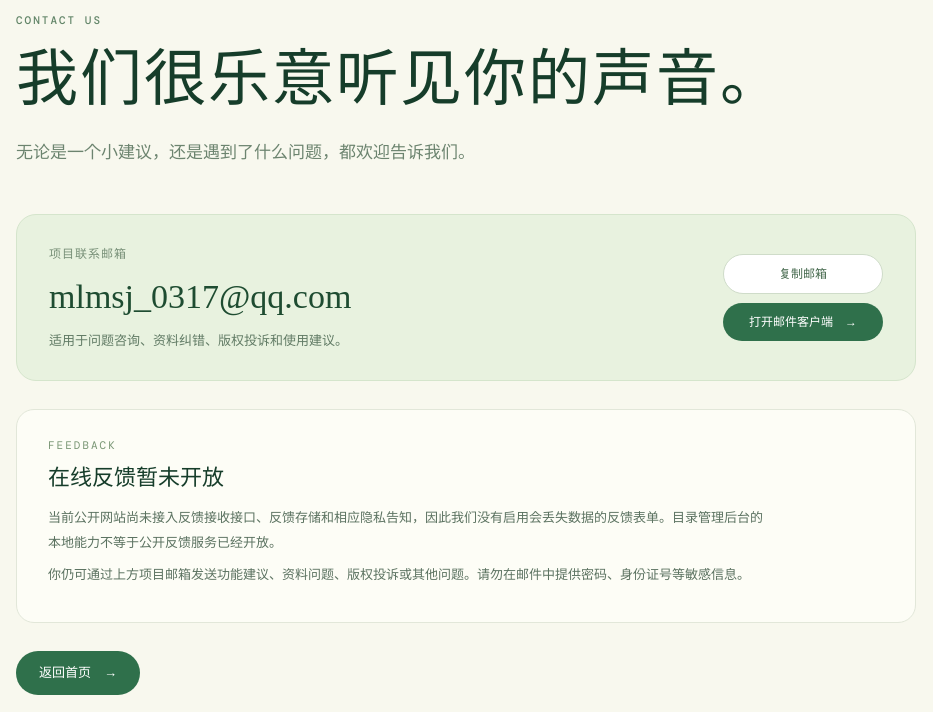
R15-3B capability copy › announces project email copy success and failure without losing the manual fallback
Click the button named "复制项目联系邮箱". click: (803, 274)
box: [723,254,883,294]
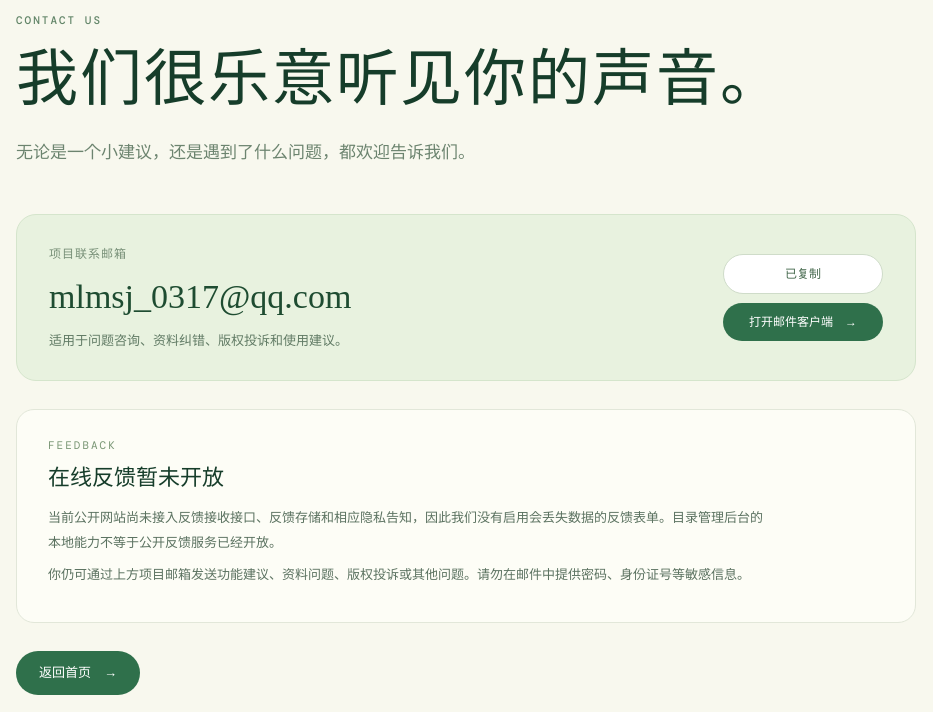
Check: the button named "复制项目联系邮箱" reads "已复制"
Click the button named "复制项目联系邮箱". click: (803, 274)
box: [723,254,883,294]
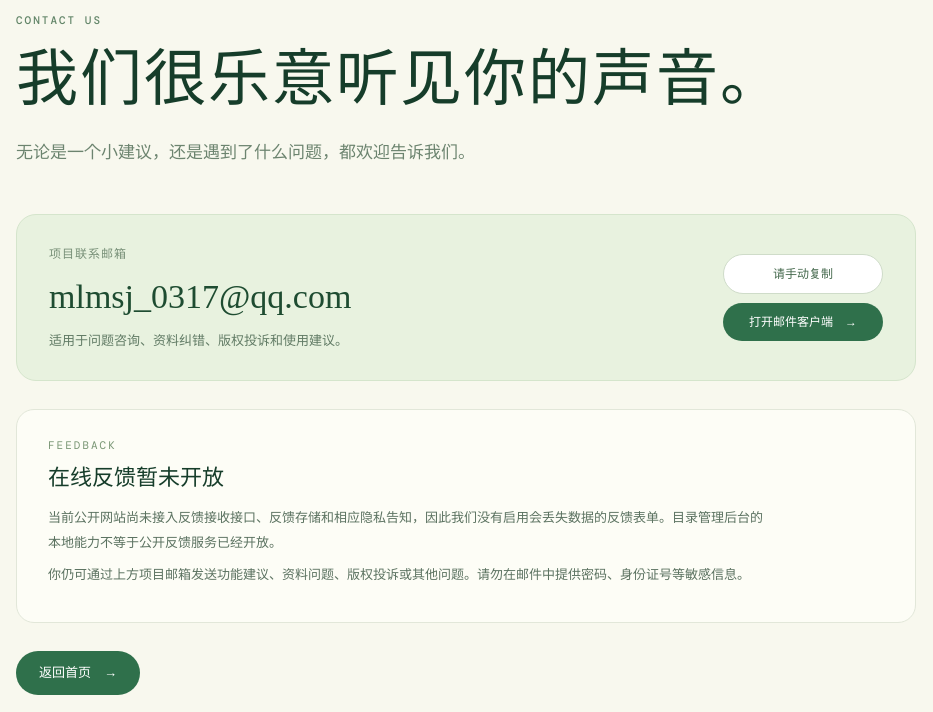
Check: the button named "复制项目联系邮箱" reads "请手动复制", box [723,254,883,294]
